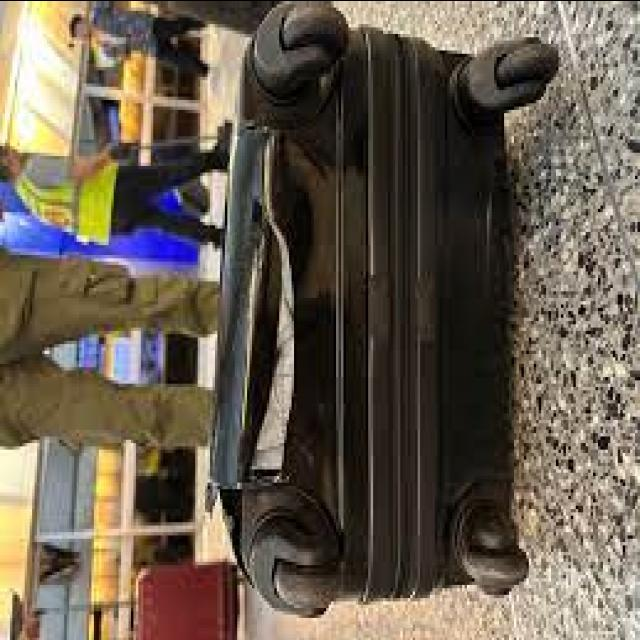Damage-bag: (210, 123, 294, 580)
